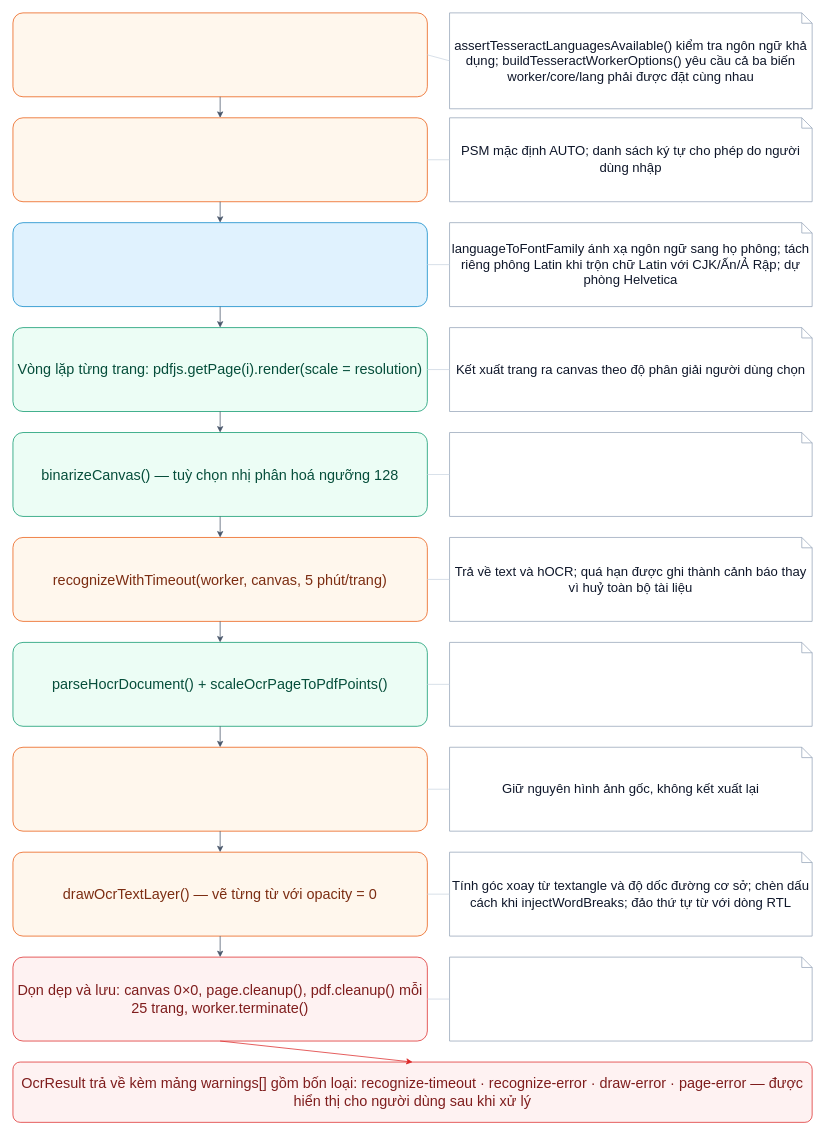
Image size: 825x1136. Some labels were removed from this diagram. The shapes that lost their labels are listed below. From the top down, each one's centre as x and y in pixels, then its label:
the point at 219,54: createConfiguredTesseractWorker(language, OEM=1, logger)
the point at 219,159: setParameters({tessedit_pageseg_mode, tessedit_char_whitelist})
the point at 219,264: Nạp phông theo ngôn ngữ — getFontForLanguage()
the point at 630,474: Độ sáng = 0,299R + 0,587G + 0,114B
the point at 630,684: Chuyển toạ độ hộp bao từ điểm ảnh sang điểm PDF
the point at 219,789: copyPages() trang gốc sang tài liệu mới (pdf-lib)
the point at 630,998: Bảo đảm bộ nhớ không tăng tuyến tính với tài liệu nhiều trang
